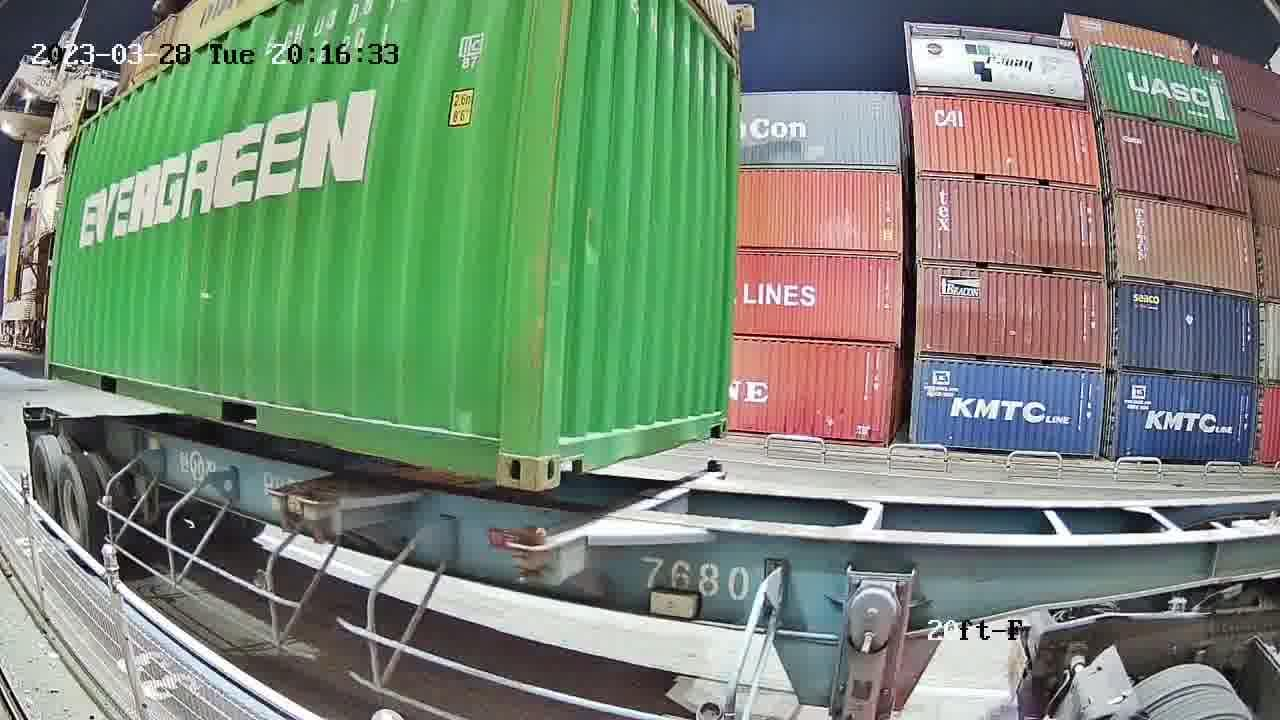Chassis: (511, 470, 726, 582)
Cone: (511, 527, 547, 584), (705, 459, 720, 474)
Hole_L: (538, 408, 594, 494)
Hole_R: (462, 407, 538, 491), (702, 397, 728, 440)
Tire: (55, 457, 97, 559), (31, 438, 58, 524)
